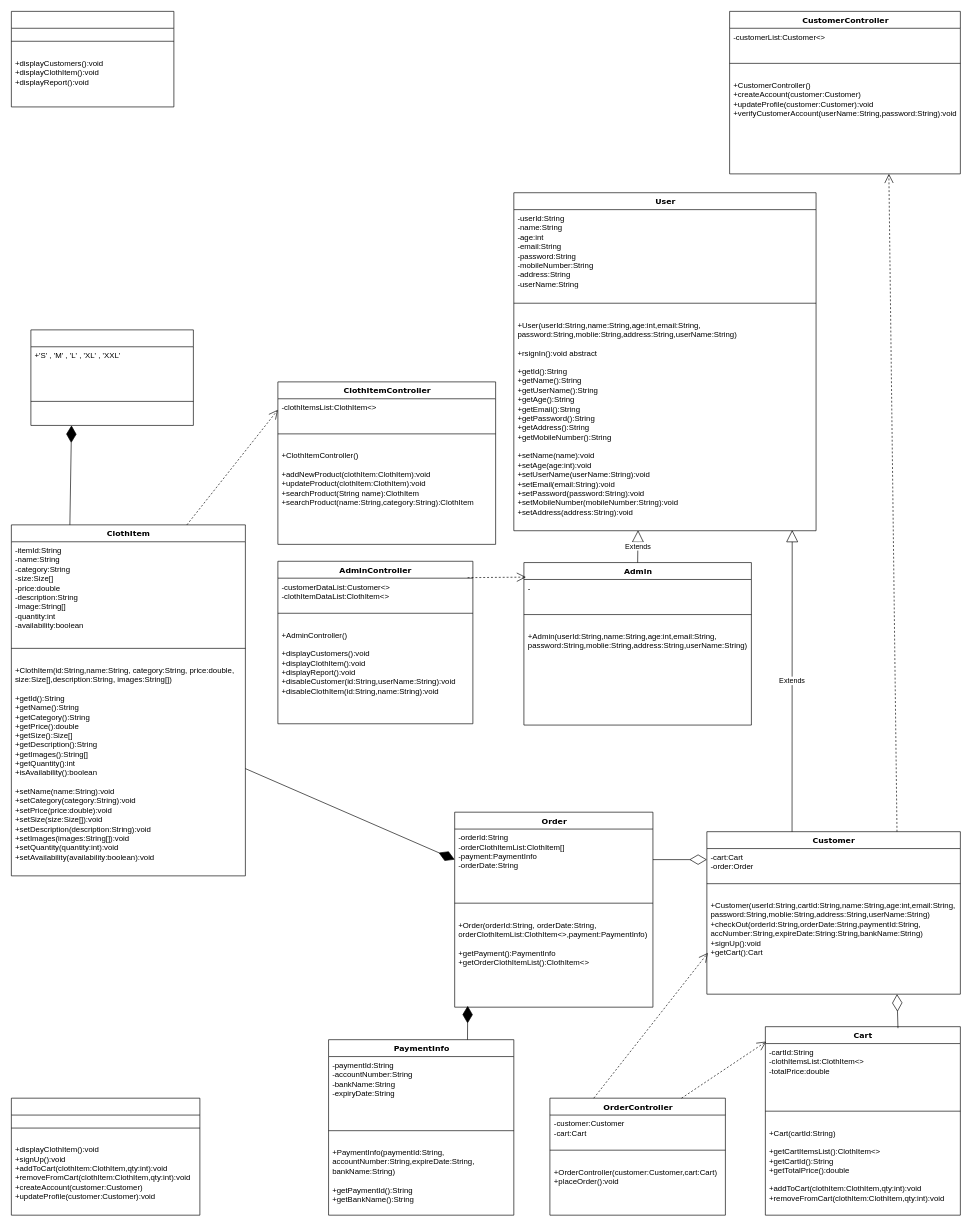
Some shapes in this 972 by 1229 pixel diagram are drawn without their labels. The box of each missing label's shape, as (x1, y1, x2, y2) in pixels:
AdminDashbordView: (11, 11, 174, 107)
CustomerDashbordView: (11, 1098, 200, 1215)
Size(Enam): (30, 329, 193, 425)
